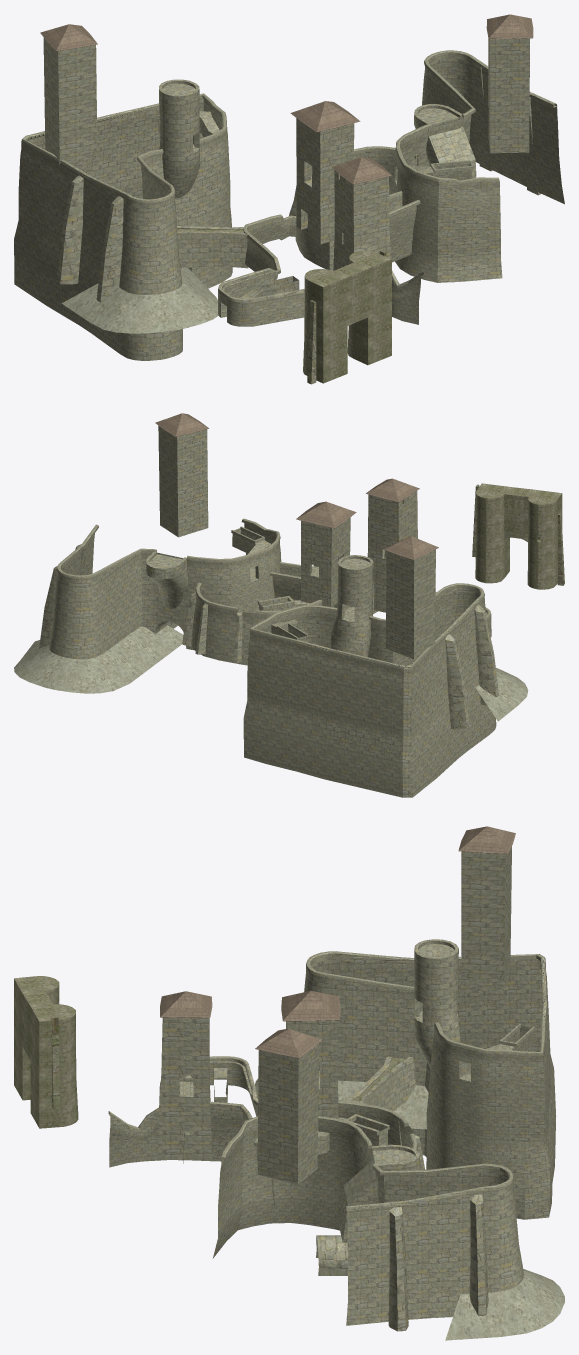
Rendered from SM_Chateaux_01_01.fbx.
The picture shows the model from 3 angles, top to bottom: view 1: azimuth 30°, elevation 25°; view 2: azimuth 150°, elevation 25°; view 3: azimuth 270°, elevation 25°; orthographic projection. The views are drawn at different scales.
Visible parts, largest first — view 1: SM_Chateaux_01_01, SM_Chateaux_01_01.001; view 2: SM_Chateaux_01_01, SM_Chateaux_01_01.001; view 3: SM_Chateaux_01_01, SM_Chateaux_01_01.001.
Boxes of the visible parts, bbox=[...] form: SM_Chateaux_01_01: bbox=[14, 38, 564, 384]; SM_Chateaux_01_01.001: bbox=[40, 14, 533, 184]; SM_Chateaux_01_01: bbox=[14, 425, 564, 797]; SM_Chateaux_01_01.001: bbox=[155, 413, 438, 559]; SM_Chateaux_01_01: bbox=[14, 846, 564, 1340]; SM_Chateaux_01_01.001: bbox=[160, 826, 515, 1058].
Bounding box in the file's own units: 10560 × 5499 × 9028.
